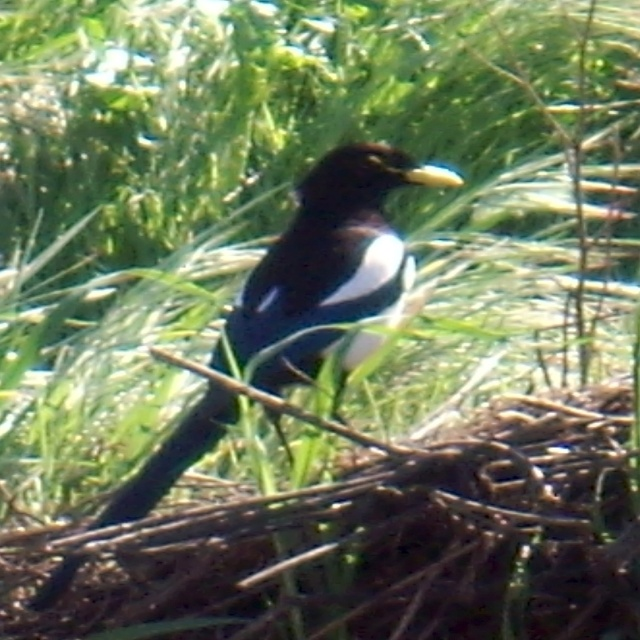Magpie: (26, 142, 463, 611)
